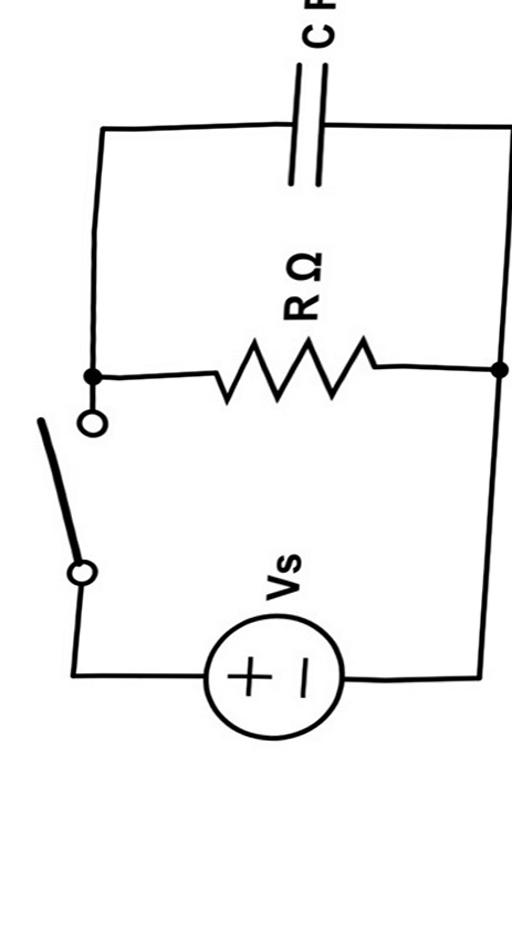Battery: (172, 602, 370, 757)
